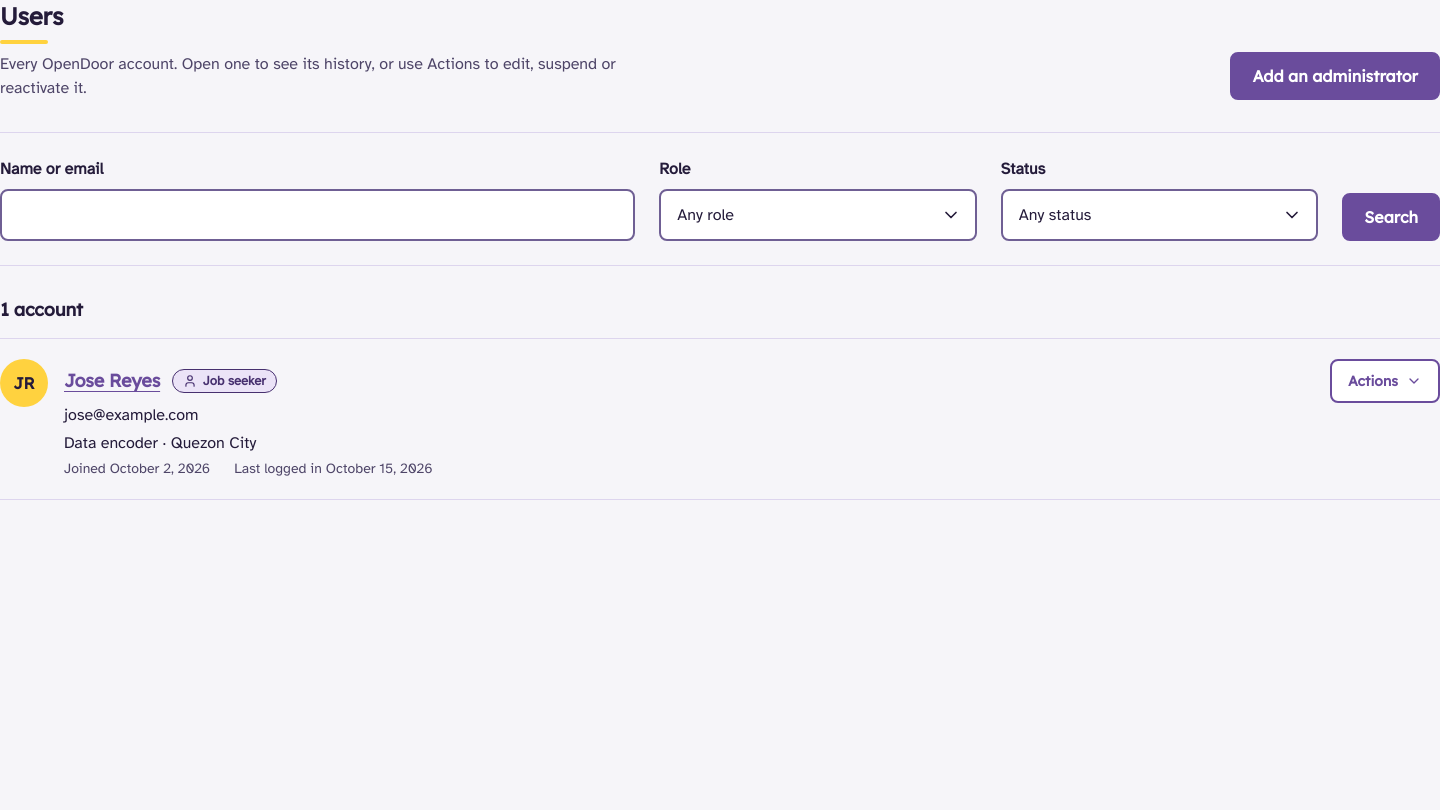
Test case: UsersPage › suspends from the Actions menu and updates the row
Click the button with aria-label "Actions for Jose Reyes": (1385, 381) [1330, 359, 1439, 403]
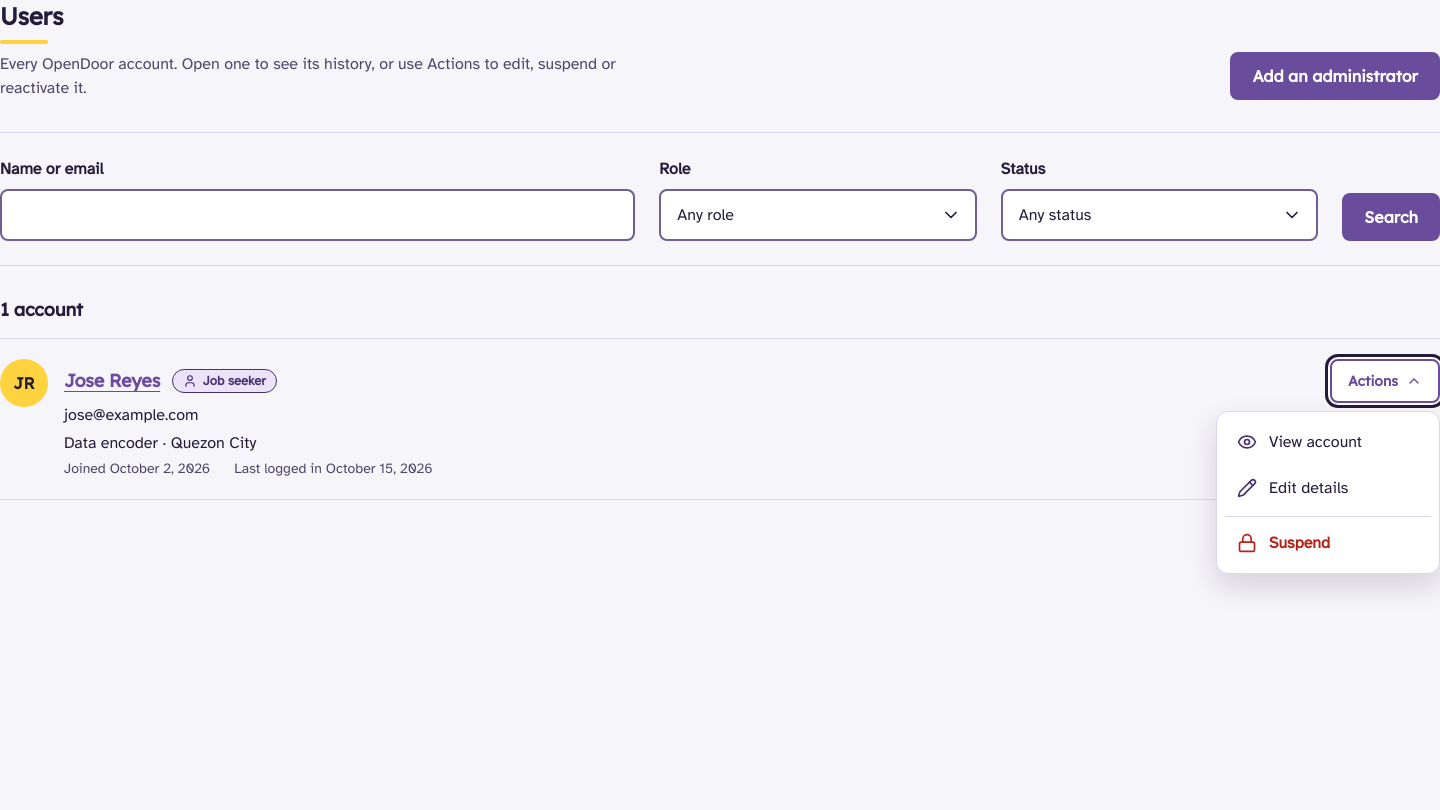
Expected: the button with aria-label "Actions for Jose Reyes" is expanded, [1330, 359, 1439, 403]
Click the button "Suspend": (1328, 543) [1225, 521, 1431, 565]
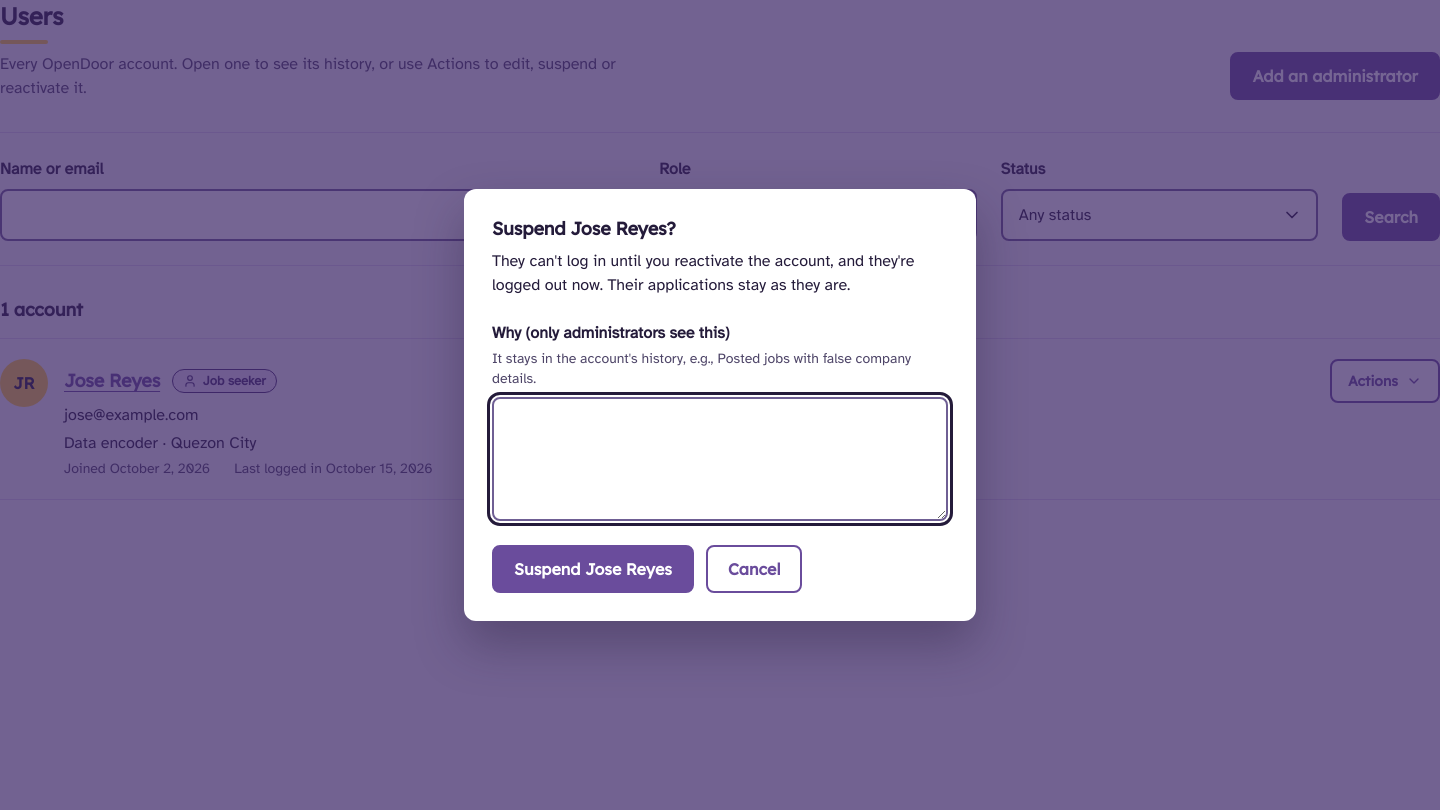
In the text box labelled "Why (only administrators see this)": (720, 459) [492, 397, 948, 521], type "Posted fake jobs."
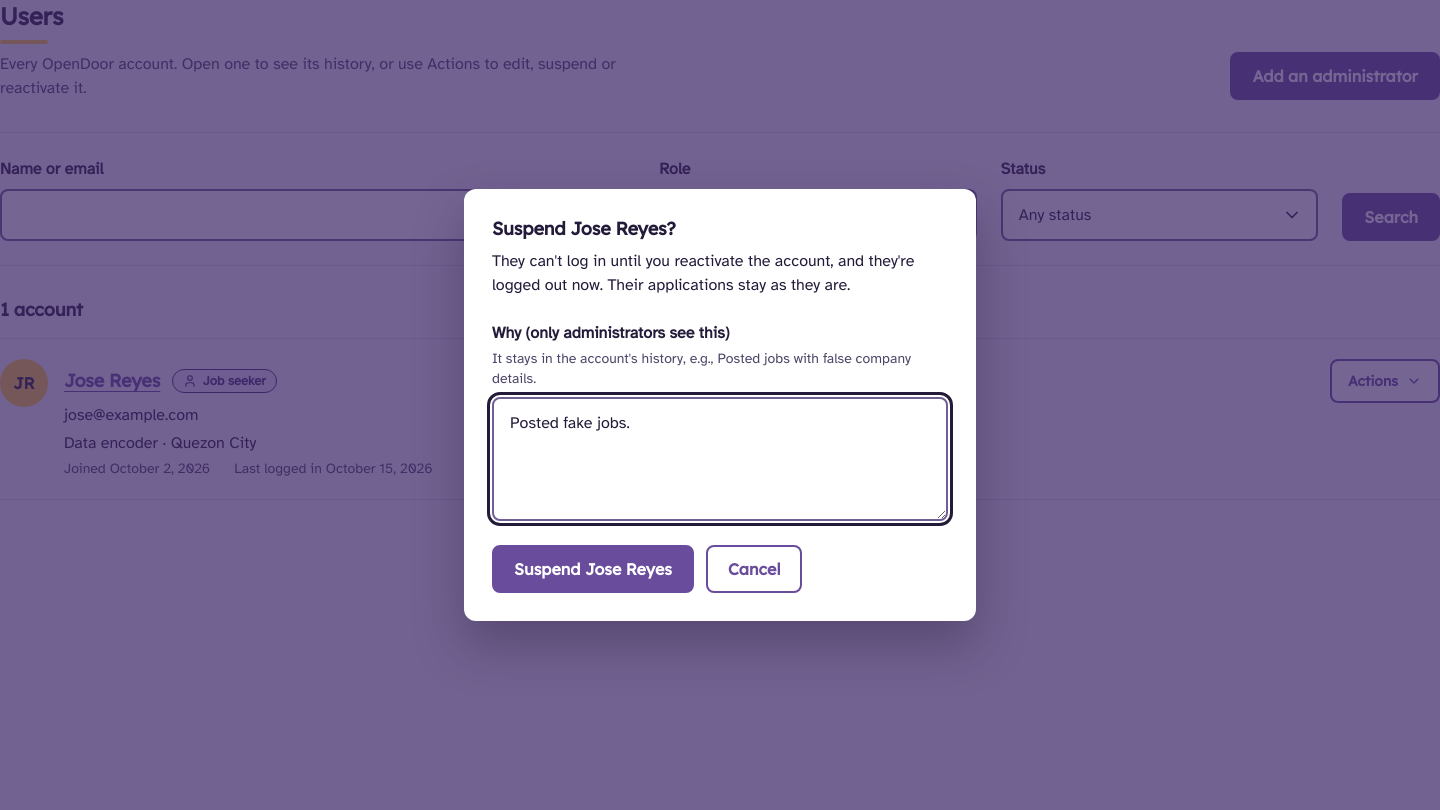
Click the button "Suspend Jose Reyes": (593, 569) [492, 545, 694, 593]
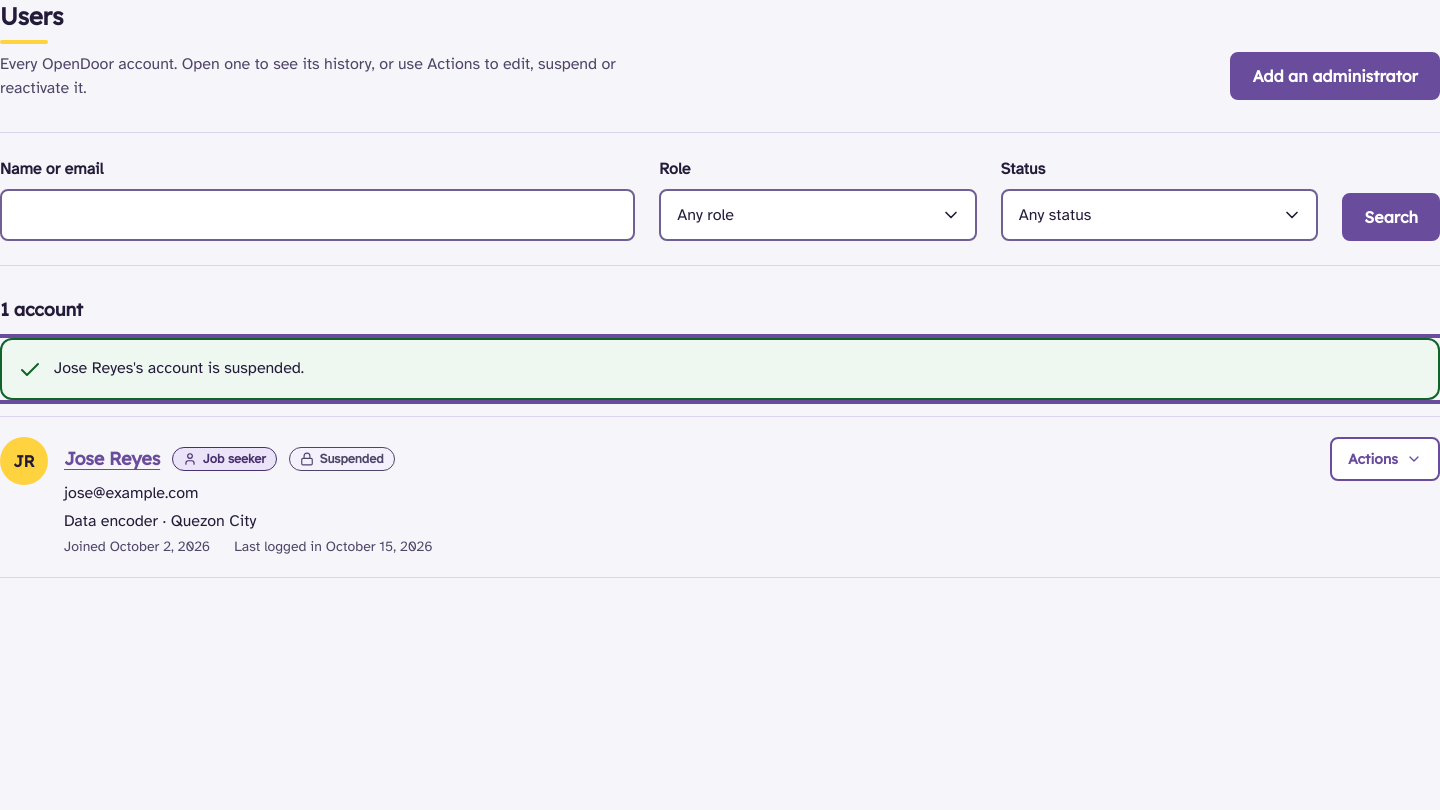
Expected: the text "Jose Reyes's account is suspended." is shown, [54, 356, 304, 382]
Expected: the text "Suspended" is shown, [289, 447, 394, 471]
